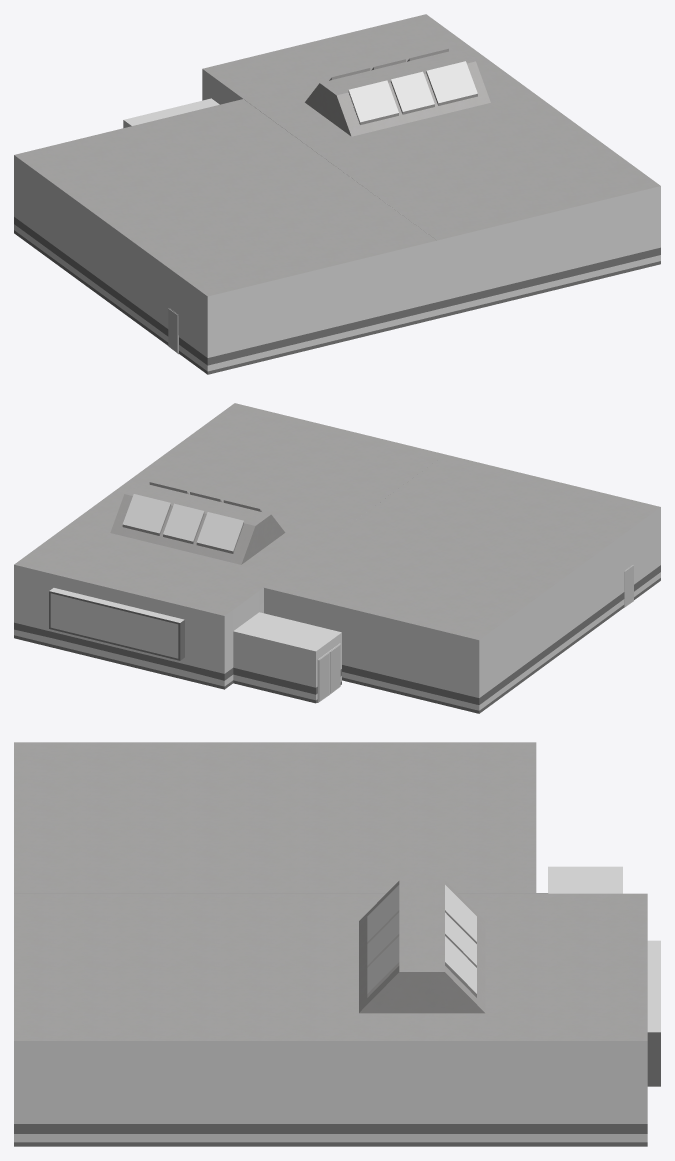
The model's file is labaratory_room.fbx.
The picture shows the model from 3 angles, top to bottom: view 1: azimuth 30°, elevation 25°; view 2: azimuth 150°, elevation 25°; view 3: azimuth 270°, elevation 25°; orthographic projection. The views are drawn at different scales.
Visible parts, largest first — view 1: Lab_room_front; view 2: Lab_room_front; view 3: Lab_room_front.
Boxes of the visible parts, box(x1,y1,x2,y2) form: Lab_room_front: box(14, 14, 660, 374); Lab_room_front: box(14, 403, 660, 713); Lab_room_front: box(14, 742, 660, 1146).
Size of the model in its own units: 26.79 by 6.36 by 24.51.
